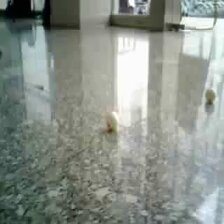w: (105, 111, 122, 130), (204, 88, 216, 104)
